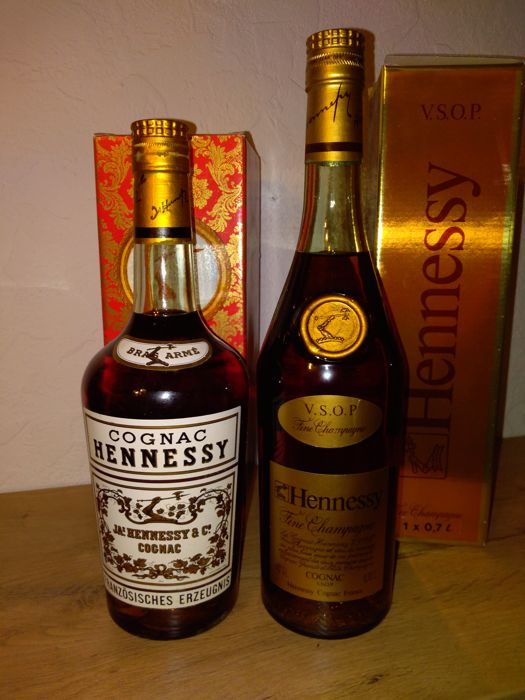Hennessy: (238, 9, 420, 651), (68, 104, 268, 656)
